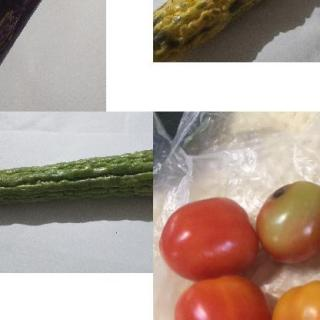Tomat: (163, 175, 319, 320)
